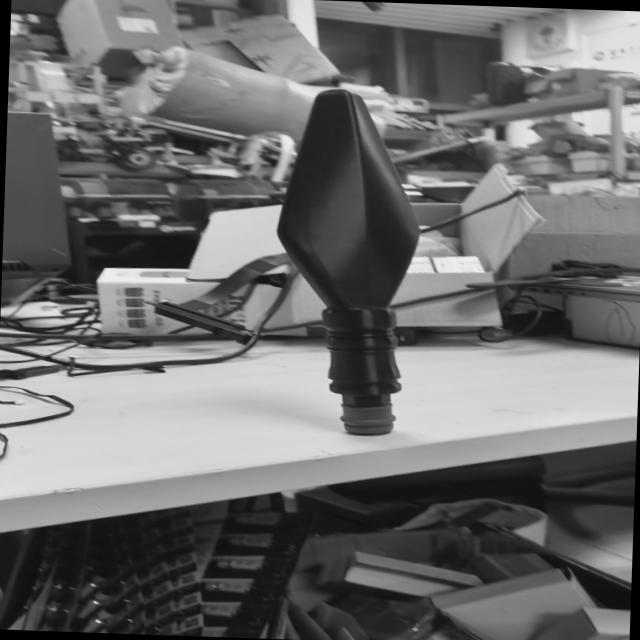base: (334, 399, 399, 442)
